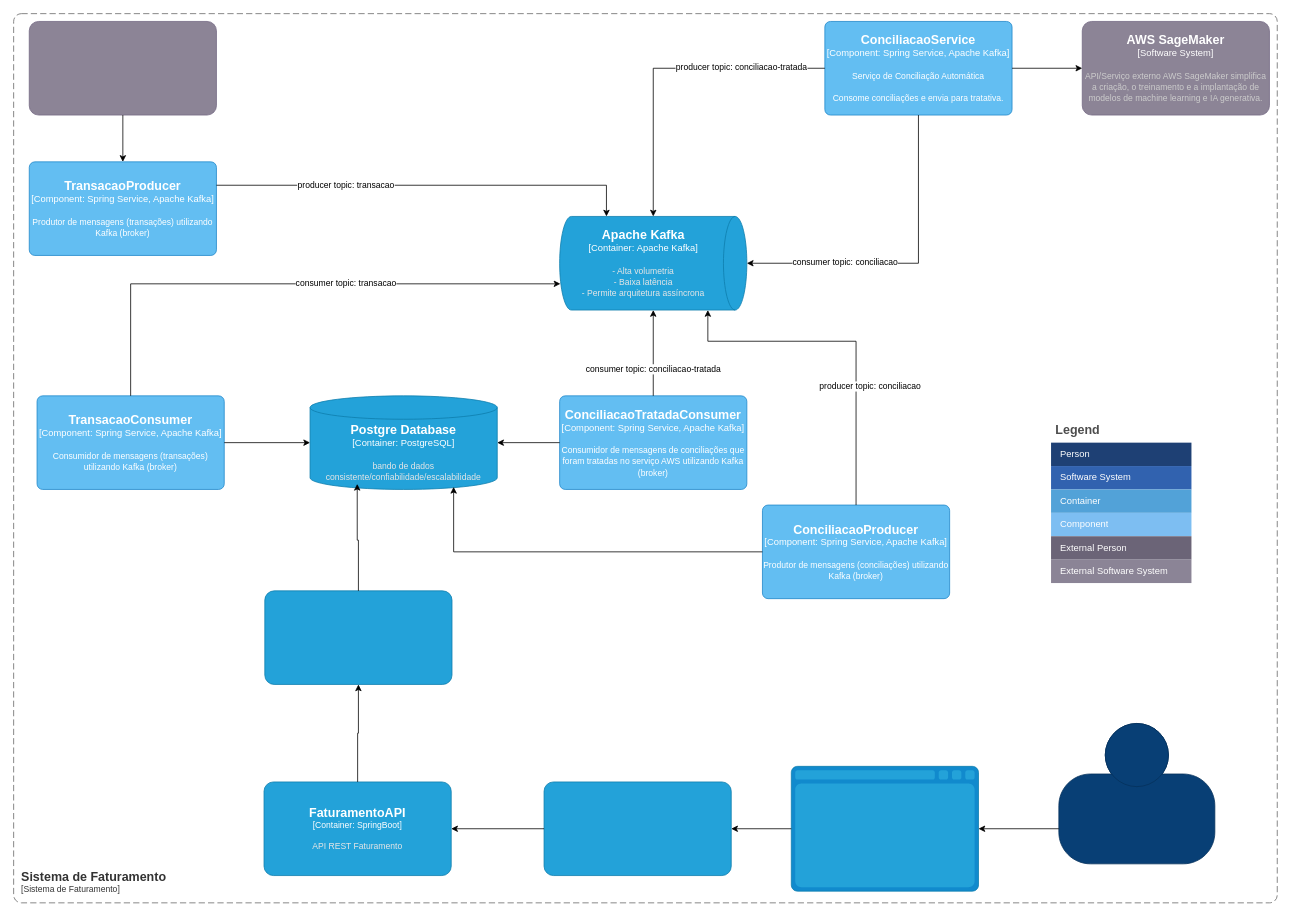
The diagram is 1291 pixels wide and 916 high, and some of its shapes have lost their labels. Here are the shapes that lost their labels. From the top down, the centre of each, then its label:
At (122,68): "Billing Service [Software System] Transações financeiras".
At (358,637): "AuthAPI [Container: SpringBoot JWT] Autenticação e emissão de tokens JWT".
At (1136,793): "Operador [Person] Funcionário Vivo".
At (637,828): "GatewayAPI [Container: NGINX] API Gateway".
At (885,828): "FaturamentoUI [Container: React] UI utilizando React".
